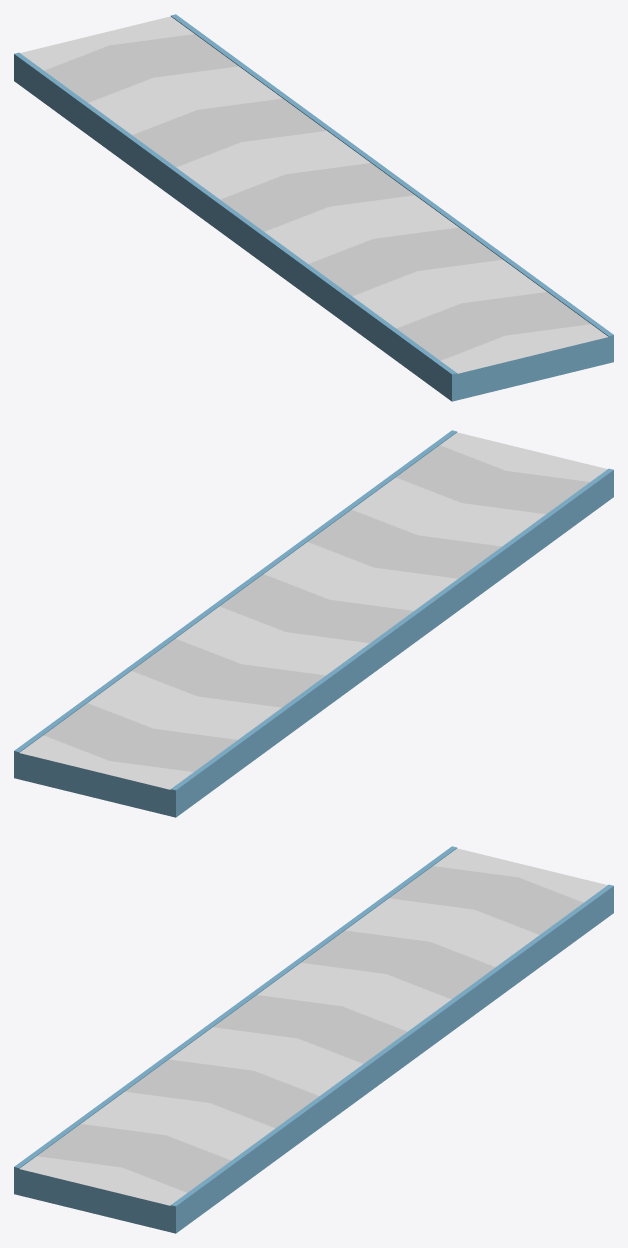
File: platform 1.fbx
The picture shows the model from 3 angles, top to bottom: view 1: azimuth 30°, elevation 25°; view 2: azimuth 150°, elevation 25°; view 3: azimuth 330°, elevation 25°; orthographic projection.
Parts seen in each view (by area): view 1: platform; view 2: platform; view 3: platform.
Part boxes in pixels (<box>): platform: <box>14,14,613,401</box>; platform: <box>14,430,613,817</box>; platform: <box>14,846,613,1233</box>.
Bounding box in the file's own units: 641 × 103 × 3000.
